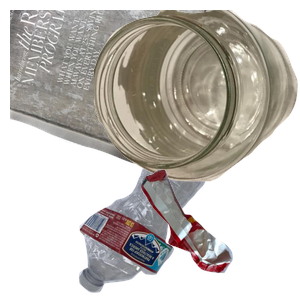glass: (94, 10, 300, 184)
paper: (10, 10, 222, 176)
plastic: (76, 131, 280, 300)
trash: (139, 167, 300, 300)
